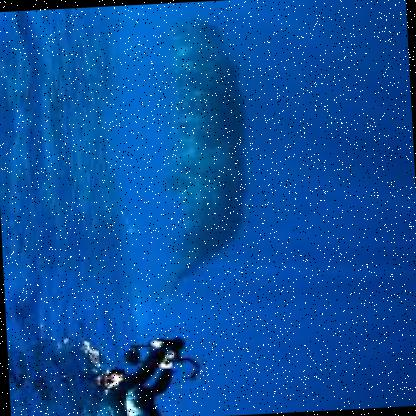sperm_whale: (139, 0, 333, 303)
